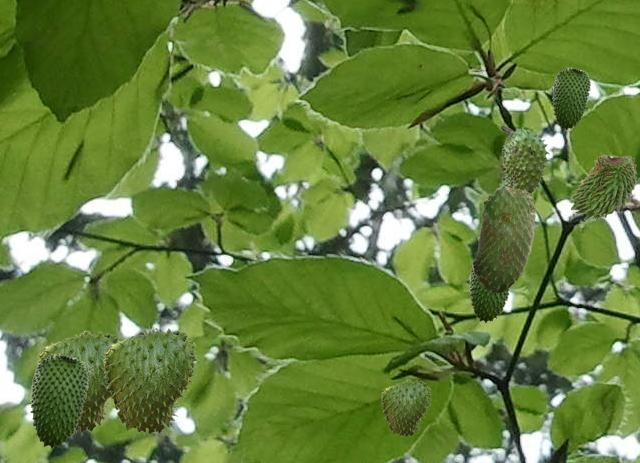guyabano: (103, 327, 198, 436), (37, 330, 120, 434), (472, 185, 536, 294), (30, 353, 87, 448), (569, 152, 636, 219), (495, 125, 550, 198), (381, 379, 431, 437), (469, 259, 511, 322), (552, 67, 589, 129)
